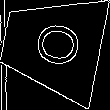O_W: (23, 20, 81, 71)
